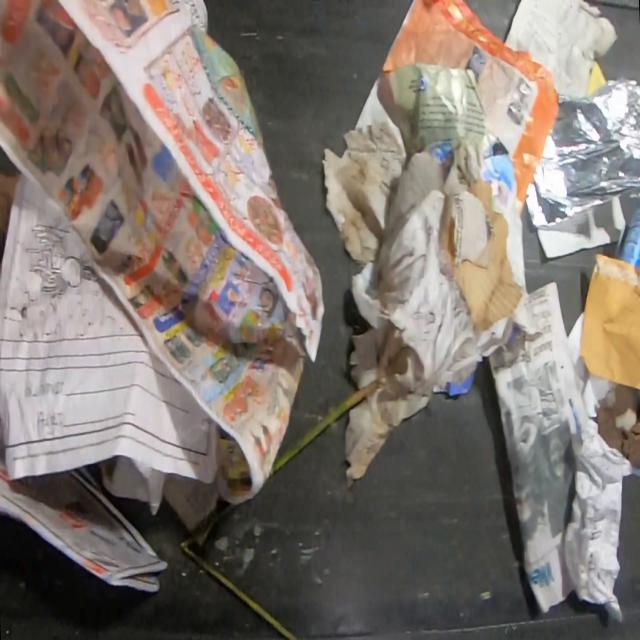cardboard: (446, 178, 524, 332), (0, 173, 21, 266)
soft_plastic: (524, 79, 640, 232)
